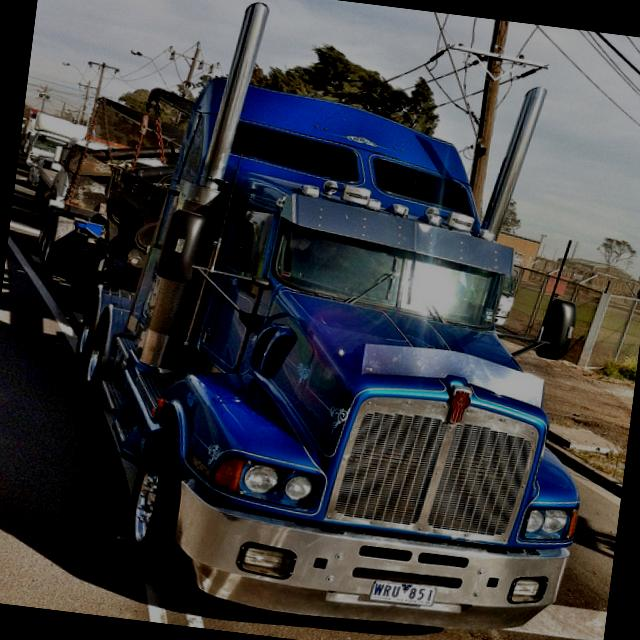Vehicle: (56, 0, 638, 640), (22, 111, 90, 201)
